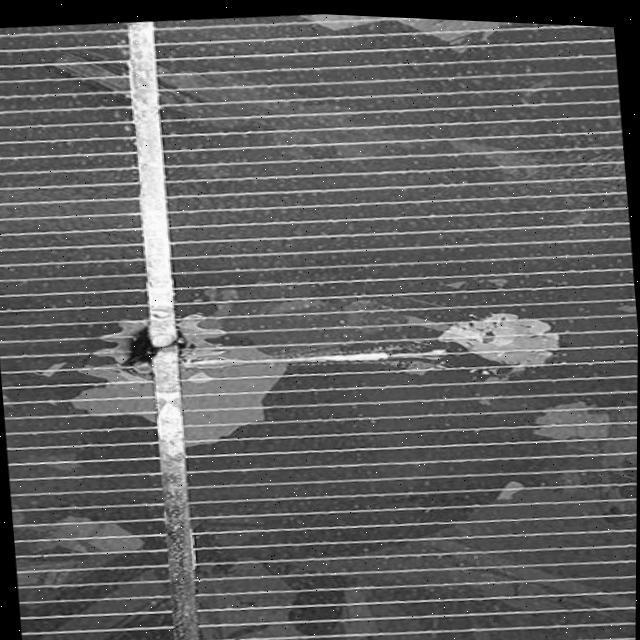Anomaly Solar Panel: (0, 11, 638, 640)
Structural Damage: (376, 284, 564, 399), (89, 284, 224, 409)
